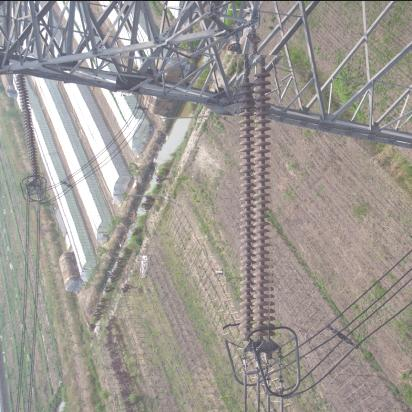insulator: (227, 55, 281, 343), (16, 75, 40, 183)
